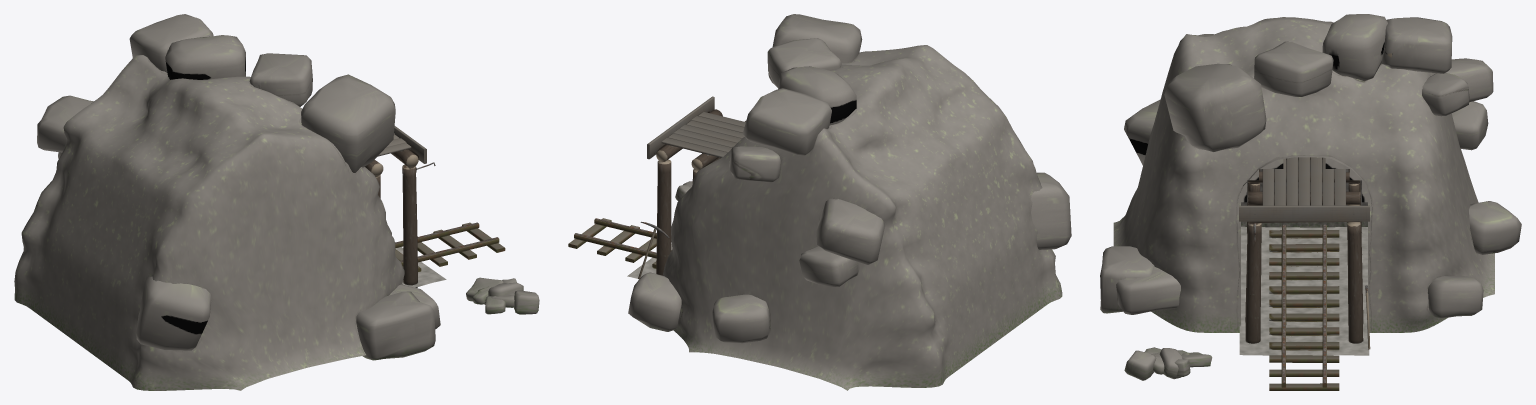
File: SM_Camp_MineEntrance.fbx
3 renders of one model, left to right at view 1: azimuth 30°, elevation 25°; view 2: azimuth 150°, elevation 25°; view 3: azimuth 270°, elevation 25°, orthographic.
Visible parts, largest first — view 1: SM_Camp_MineEntrance; view 2: SM_Camp_MineEntrance; view 3: SM_Camp_MineEntrance.
Boxes of the visible parts, box(x1,y1,x2,y2) form: SM_Camp_MineEntrance: box(14, 14, 539, 390); SM_Camp_MineEntrance: box(568, 14, 1071, 390); SM_Camp_MineEntrance: box(1100, 14, 1521, 390).
Bounding box in the file's own units: 766 × 664 × 434.
